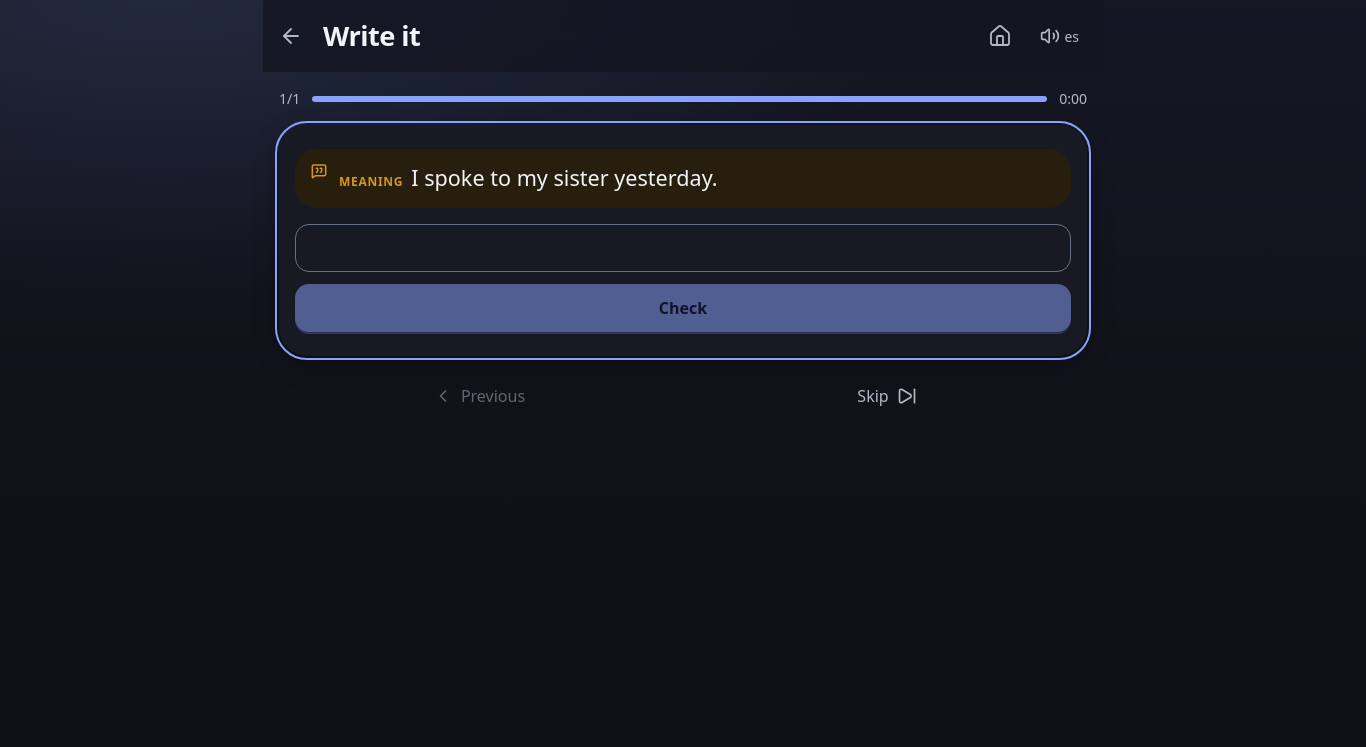
the typed-answer card › accepts the answer and records a production attempt
Type "Ayer hablé con mi hermana." into the field at [683, 248], box top-left (295, 224), bottom-right (1071, 272)
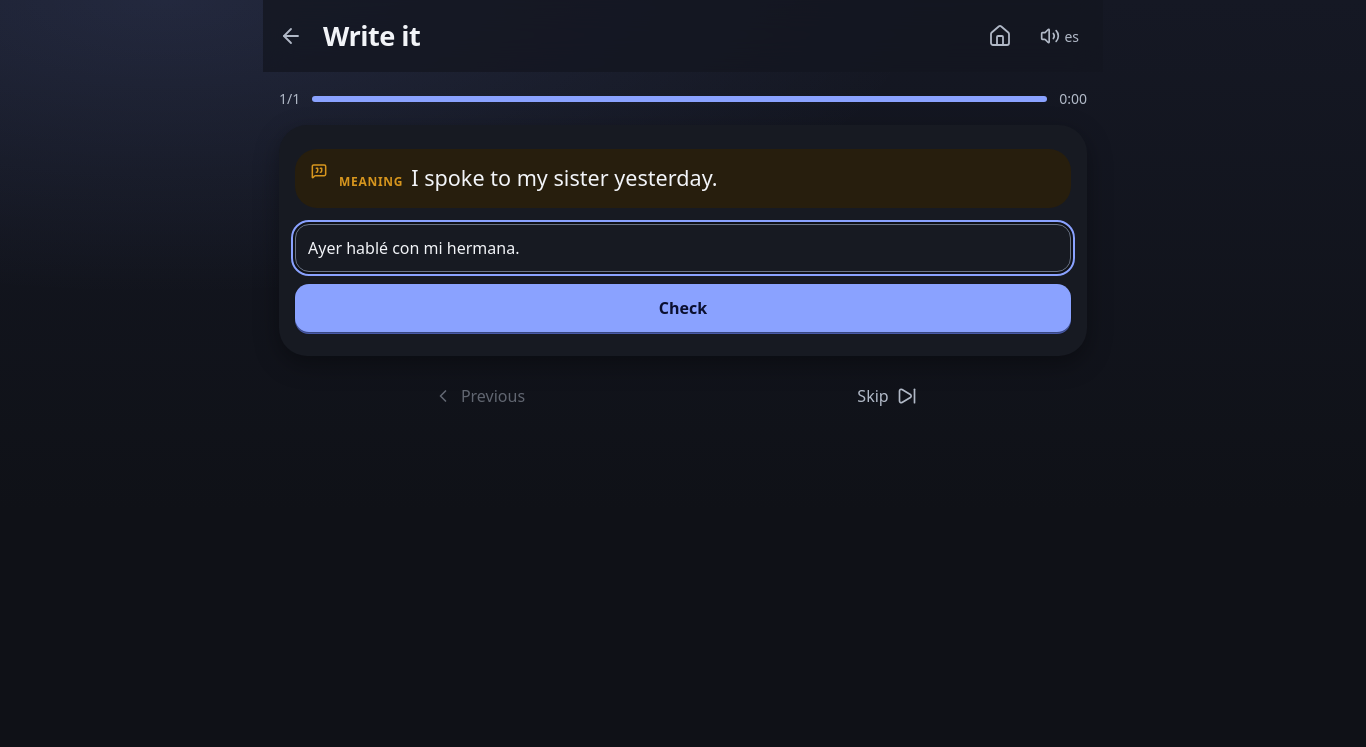
Click the button "Check" at [683, 308], box top-left (295, 284), bottom-right (1071, 332)
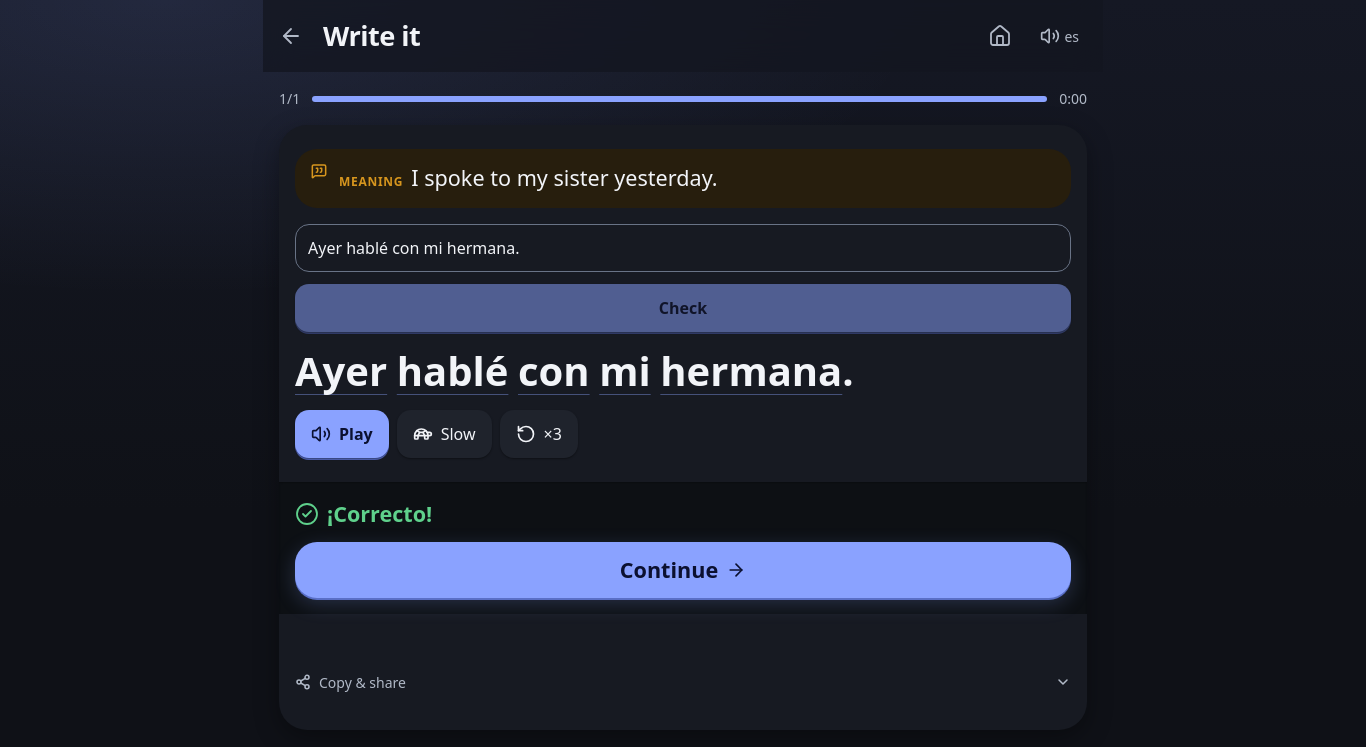
Result: the message reads "¡Correcto!" at top-left (327, 498), bottom-right (432, 528)
